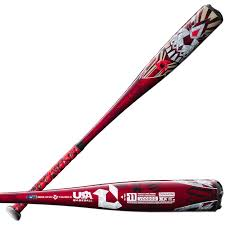baseball bat: (5, 4, 223, 221), (1, 179, 223, 213)
